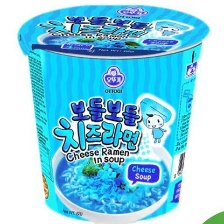paper_cup: (12, 0, 214, 224)
